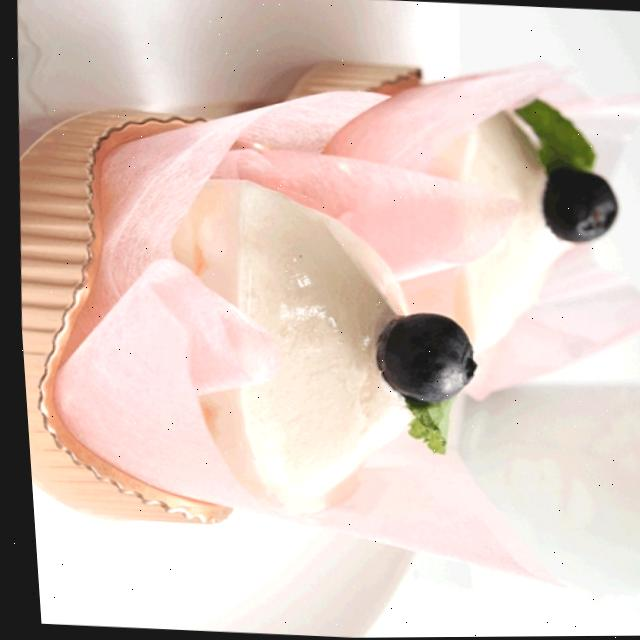蛋糕甜品: (1, 6, 640, 612)
